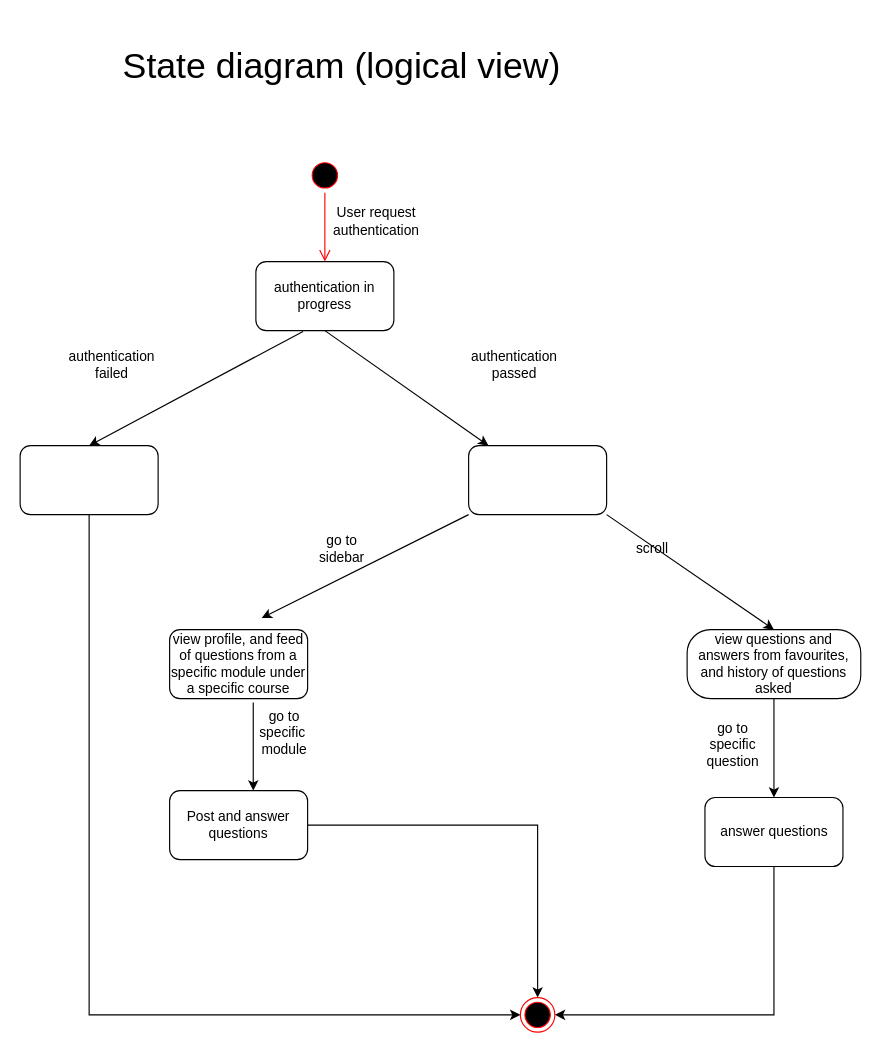
Some shapes in this 881 by 1052 pixel diagram are drawn without their labels. The shapes that lost their labels are listed below. From the top down, each one's centre as x and y in pixels, then its label:
(x=88, y=479): display error message and redirect to login page
(x=537, y=479): redirect to home page
